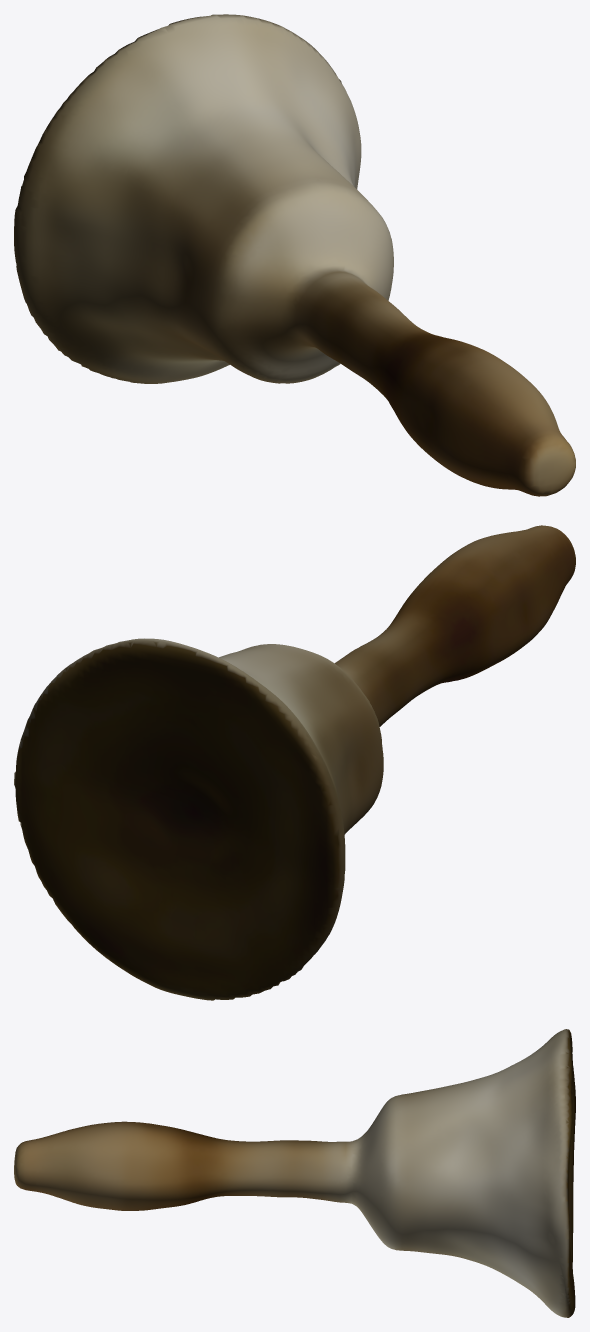
File: bell.glb
3 renders of one model, top to bottom at view 1: azimuth 30°, elevation 25°; view 2: azimuth 150°, elevation 25°; view 3: azimuth 270°, elevation 25°, orthographic. The views are drawn at different scales.
Size of the model in its own units: 0.5148 by 0.5168 by 0.9995.
